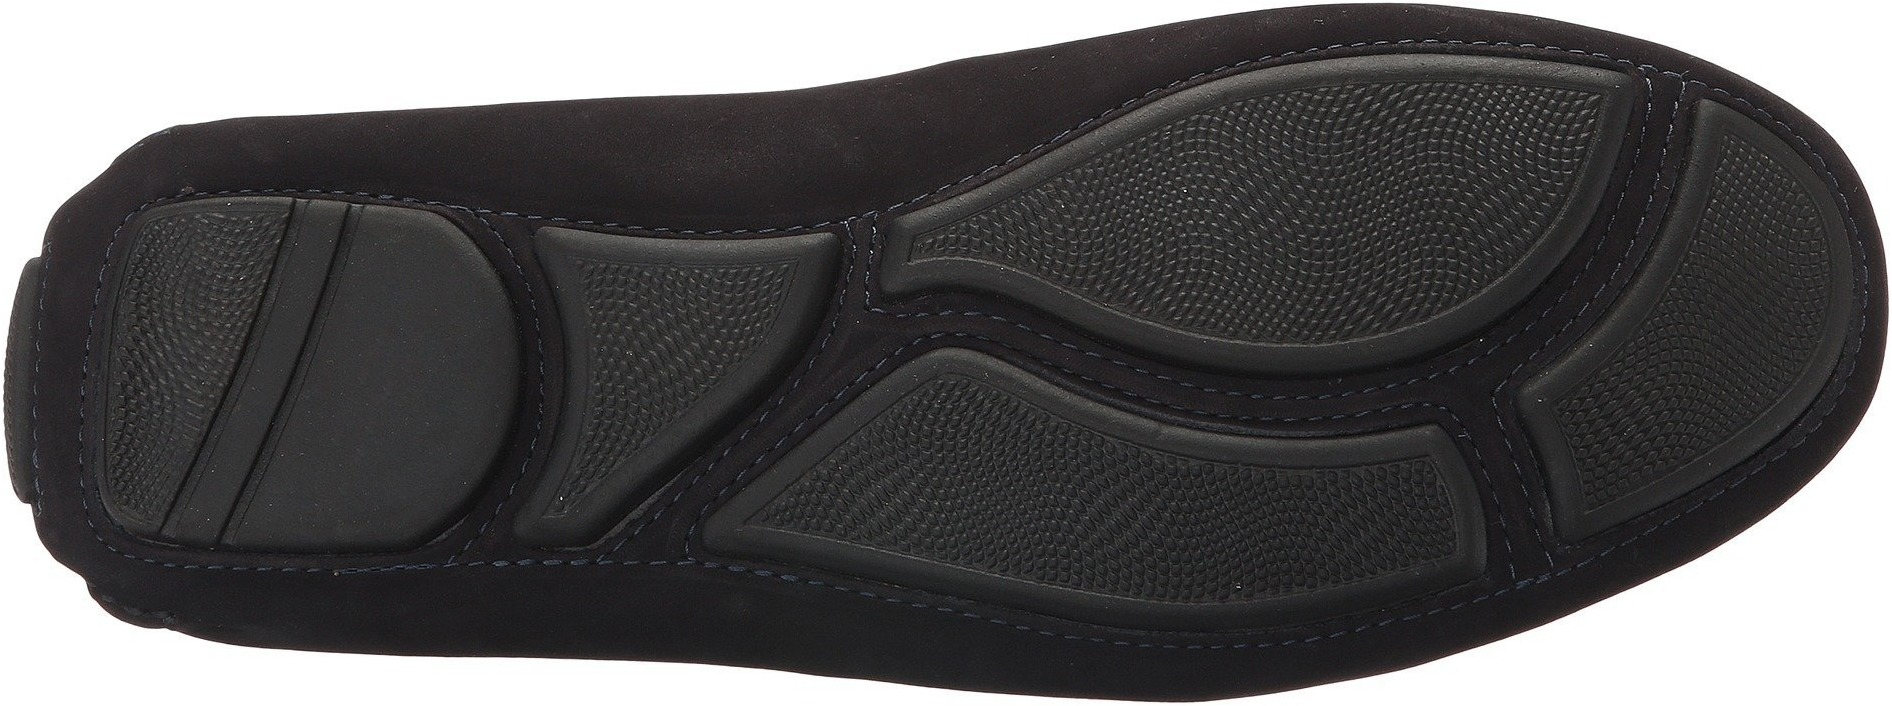other: (298, 342, 472, 530)
quad: (1222, 119, 1398, 296)
